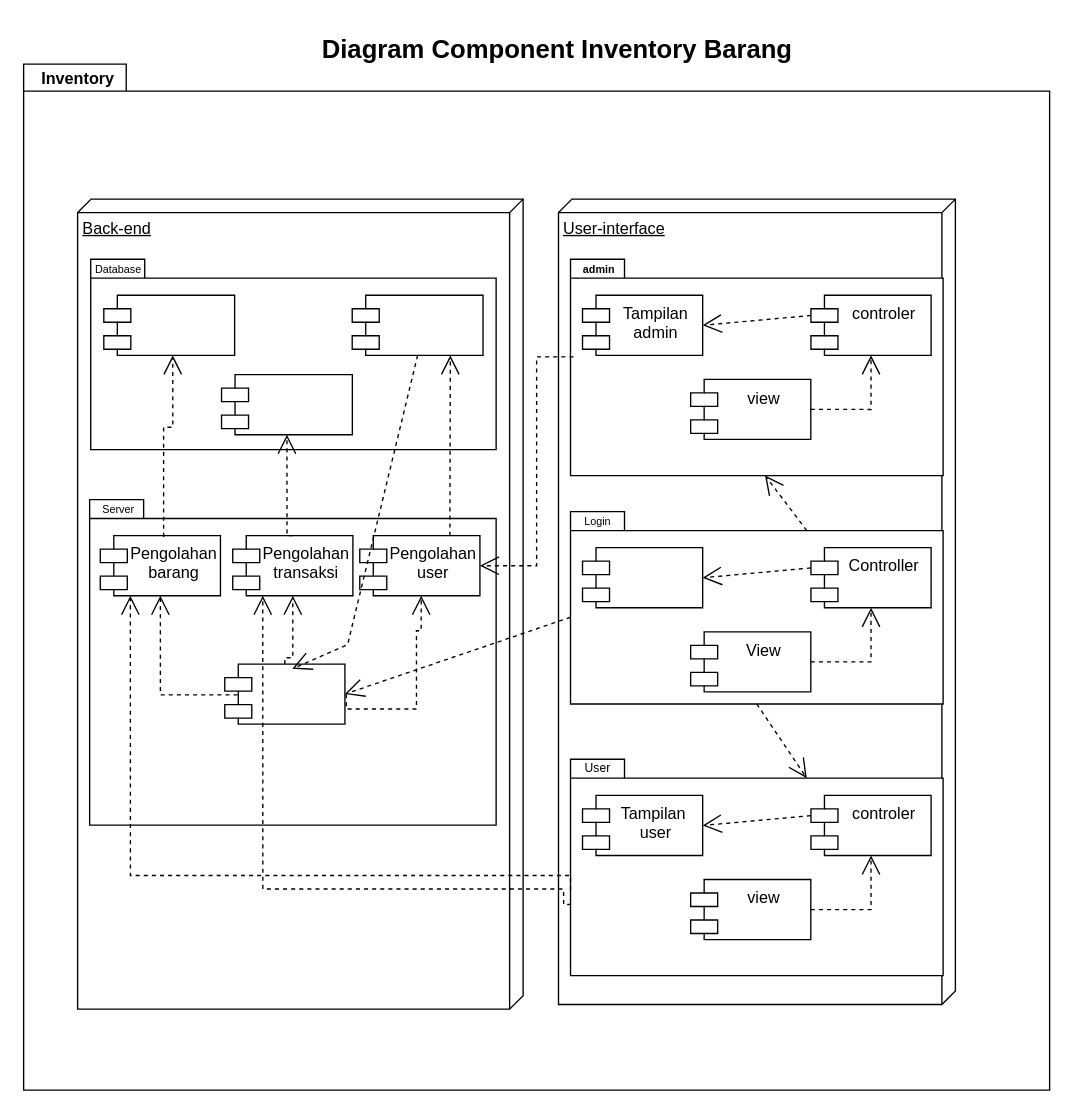
The diagram is 1073 pixels wide and 1114 high, and some of its shapes have lost their labels. Here are the shapes that lost their labels. From the top down, the centre of each, then its label:
At (x=168, y=324): "Database Barang".
At (x=417, y=324): "Database User".
At (x=286, y=404): "Database Transaksi".
At (x=642, y=577): "Tampilan Login".
At (x=284, y=693): "Validasi login".
